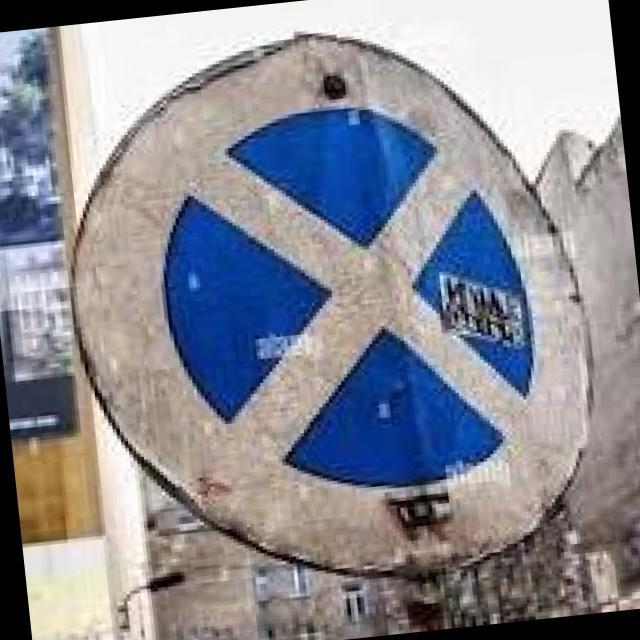obstructed_road_sign: (74, 35, 586, 582)
